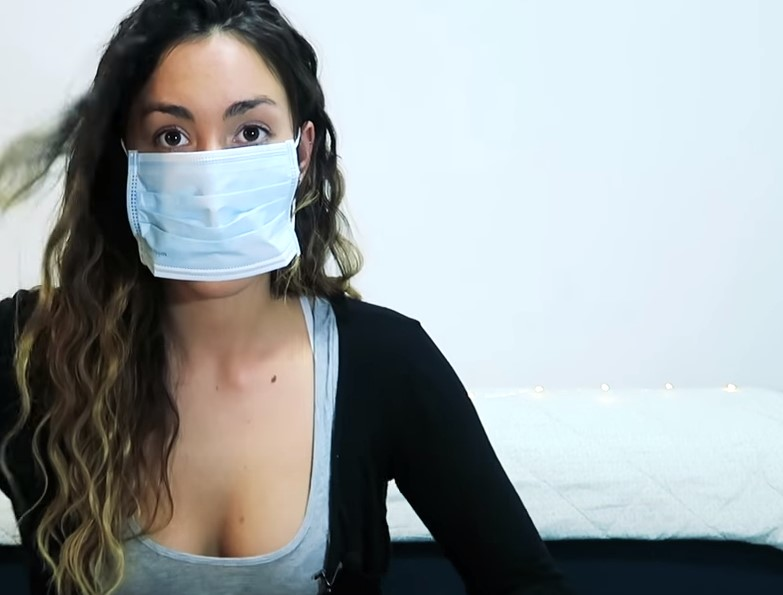face_with_mask: (100, 0, 324, 295)
